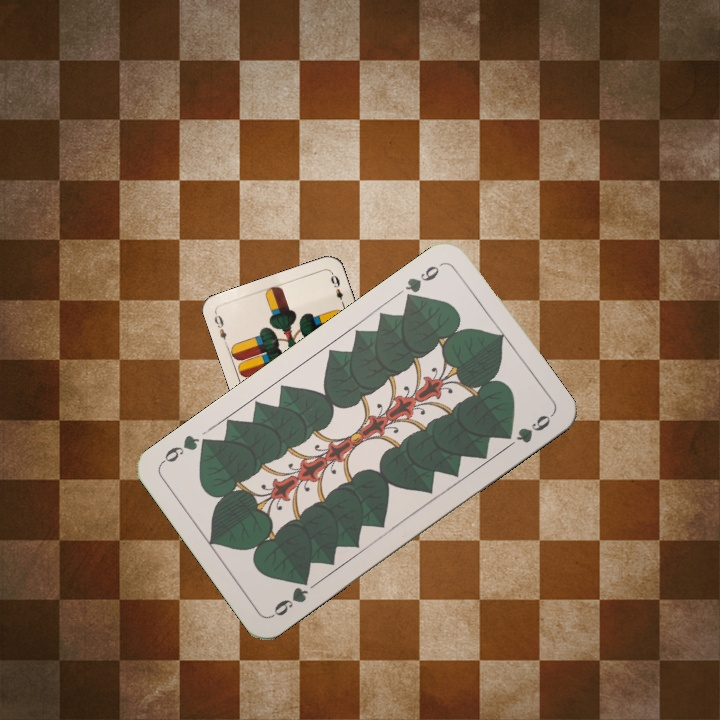E9: (210, 309, 230, 349)
G9: (267, 572, 312, 620), (400, 259, 445, 306)
